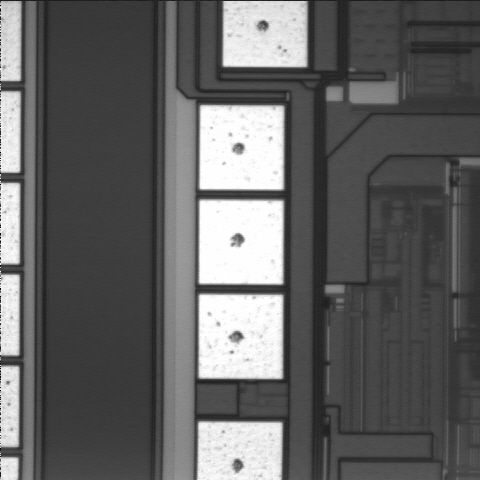pad: (199, 105, 284, 190), (199, 200, 284, 285), (199, 294, 283, 379)
